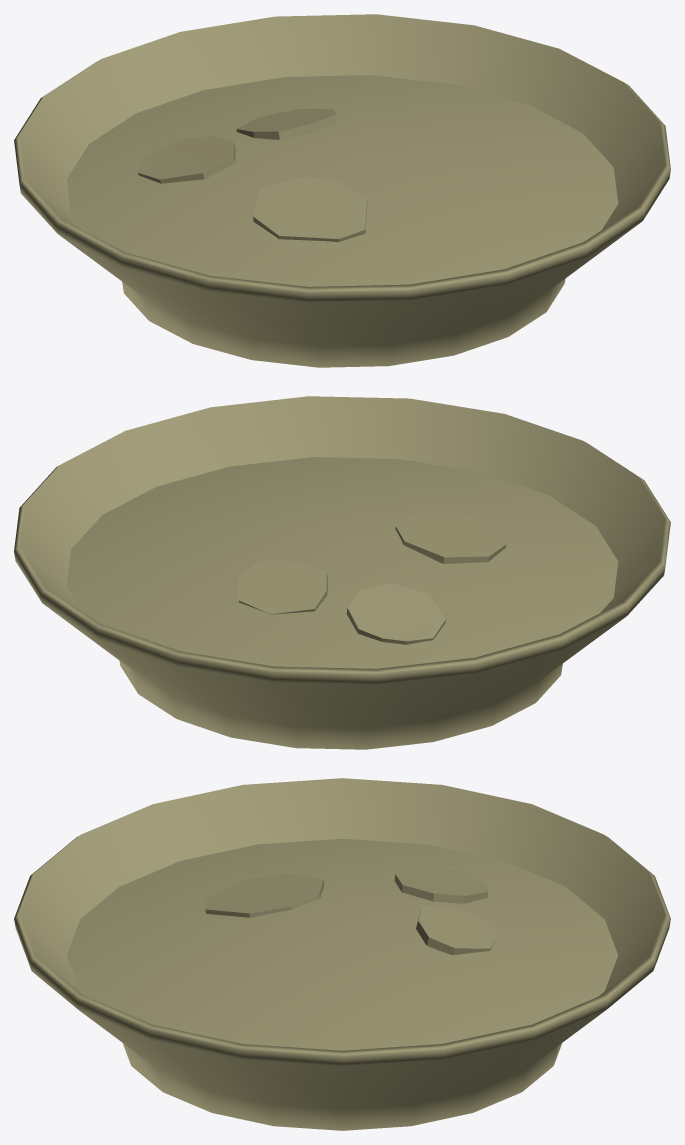
3 renders of one model, top to bottom at view 1: azimuth 30°, elevation 25°; view 2: azimuth 150°, elevation 25°; view 3: azimuth 270°, elevation 25°, orthographic.
Visible parts, largest first — view 1: G:\FFXIV-MapTools\exports\y6f3\bg\ex5\02_ykt_y6\fld\y6f3\bgp (×2); view 2: G:\FFXIV-MapTools\exports\y6f3\bg\ex5\02_ykt_y6\fld\y6f3\bgp (×2); view 3: G:\FFXIV-MapTools\exports\y6f3\bg\ex5\02_ykt_y6\fld\y6f3\bgp (×2).
Boxes of the visible parts, box(x1,y1,x2,y2) form: G:\FFXIV-MapTools\exports\y6f3\bg\ex5\02_ykt_y6\fld\y6f3\bgp (×2): box(14, 14, 670, 367); G:\FFXIV-MapTools\exports\y6f3\bg\ex5\02_ykt_y6\fld\y6f3\bgp (×2): box(14, 396, 670, 749); G:\FFXIV-MapTools\exports\y6f3\bg\ex5\02_ykt_y6\fld\y6f3\bgp (×2): box(14, 778, 670, 1130).
Bounding box in the file's own units: 0.7764 × 0.1604 × 0.7764.
